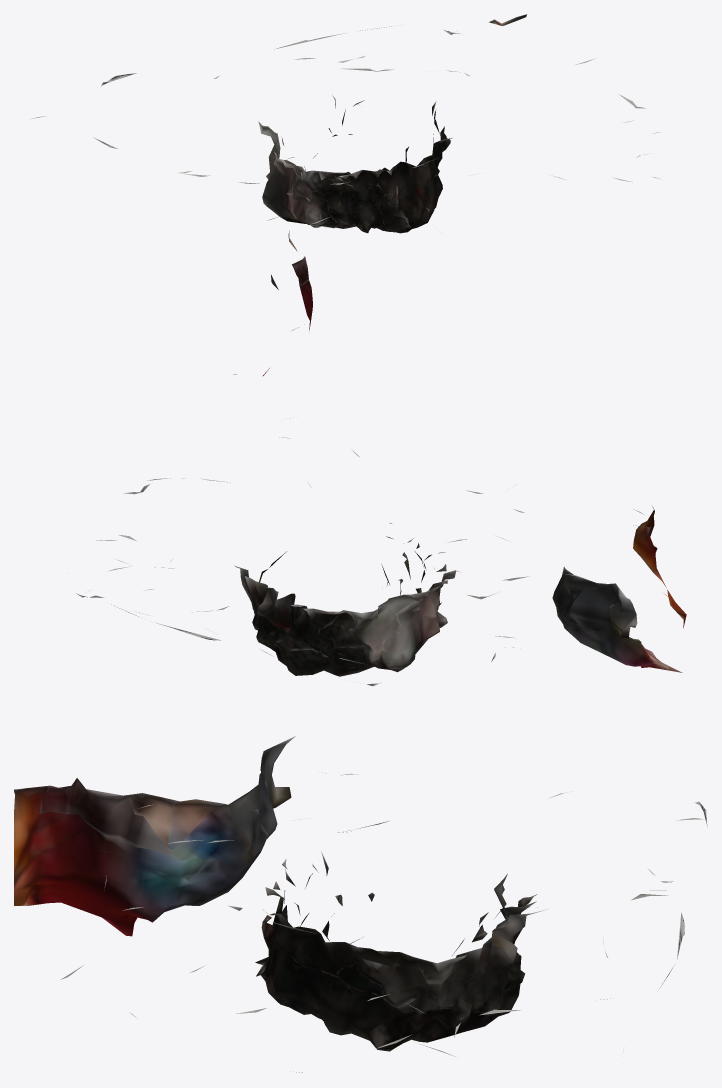
Rendered from hall.glb.
The picture shows the model from 3 angles, top to bottom: view 1: azimuth 30°, elevation 25°; view 2: azimuth 150°, elevation 25°; view 3: azimuth 270°, elevation 25°; orthographic projection. The views are drawn at different scales.
Bounding box in the file's own units: 2.78 × 0.7288 × 2.51.
Materials: 1 (1 with a texture image).
